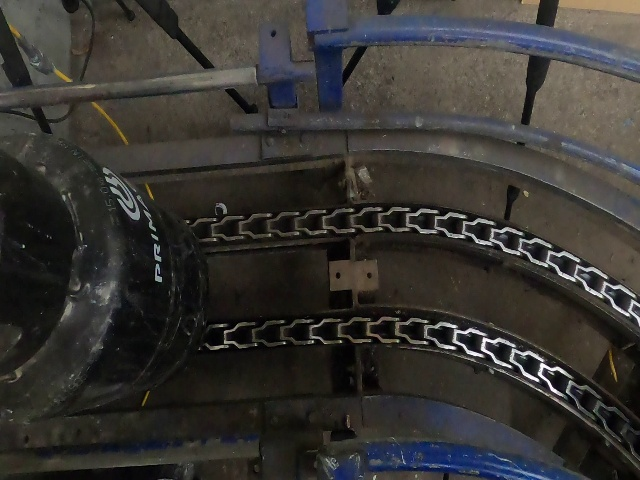gas_bottle: (3, 1, 639, 480)
